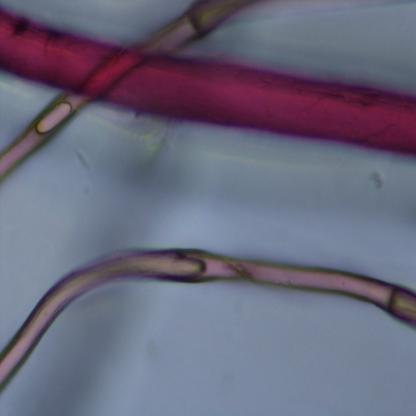Background material: (369, 168, 385, 191)
Microfibre: (0, 9, 416, 157), (0, 247, 416, 392), (0, 1, 254, 182)
